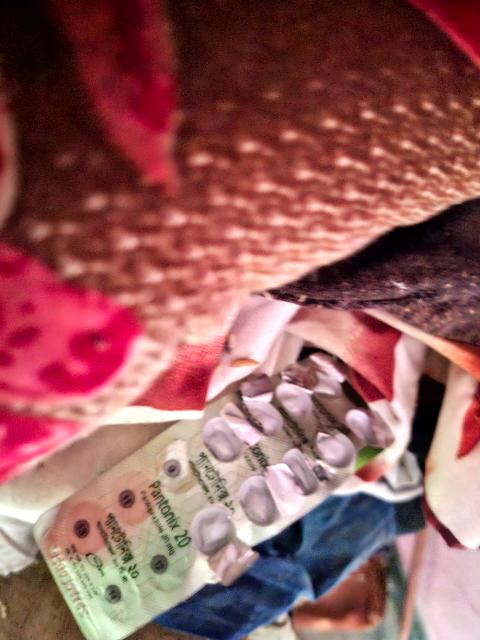medicine: (34, 337, 405, 640)
